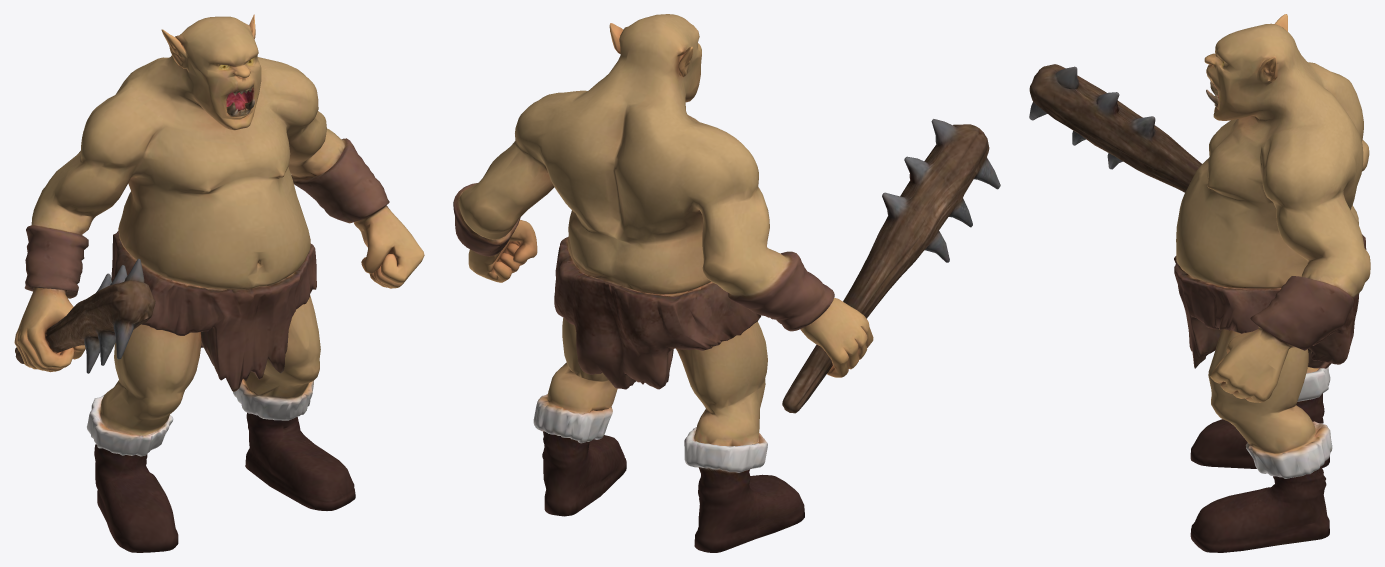
The model's file is MZ4250 - Ogre 2.glb.
3 views of the same model, side by side, from view 1: azimuth 30°, elevation 25°; view 2: azimuth 150°, elevation 25°; view 3: azimuth 270°, elevation 25° (orthographic). The views are drawn at different scales.
Parts seen in each view (by area): view 1: default; view 2: default; view 3: default.
Boxes of the visible parts, x1,y1,x2,y2 form: default: (14, 14, 424, 552); default: (453, 14, 1000, 552); default: (1029, 14, 1370, 552).
Size of the model in its own units: 1.03 by 1.16 by 0.7615.
Materials: 1 (1 with a texture image).
